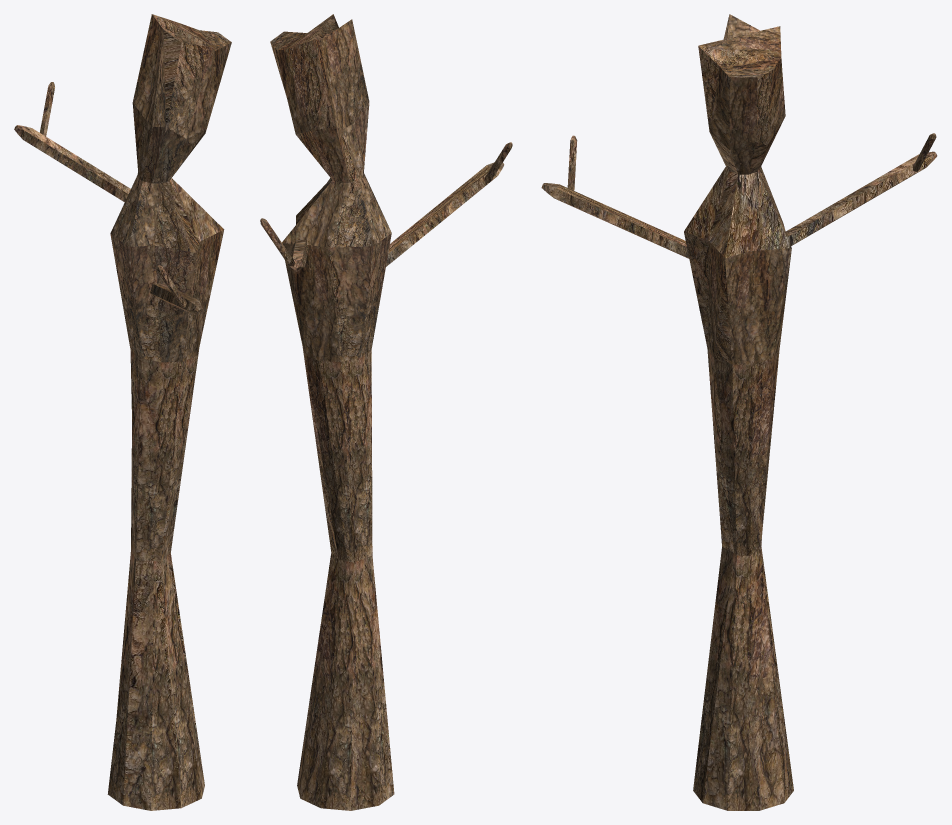
Rendered from humanoidtree_6.glb.
3 views of the same model, side by side, from view 1: azimuth 30°, elevation 25°; view 2: azimuth 150°, elevation 25°; view 3: azimuth 270°, elevation 25° (orthographic).
Parts seen in each view (by area): view 1: tree6; view 2: tree6; view 3: tree6.
Part boxes in pixels (box(x1,y1,x2,y2)): tree6: box(14, 14, 231, 810); tree6: box(260, 14, 512, 810); tree6: box(541, 14, 937, 810).
Size of what is drawn, in the model's own units: 0.5036 by 2.43 by 1.12.
Materials: 1 (1 with a texture image).
